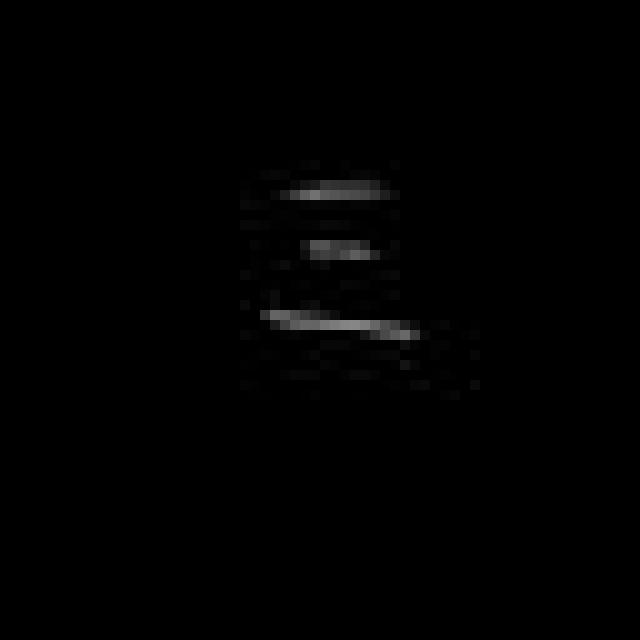3 -three-: (251, 166, 429, 362)
